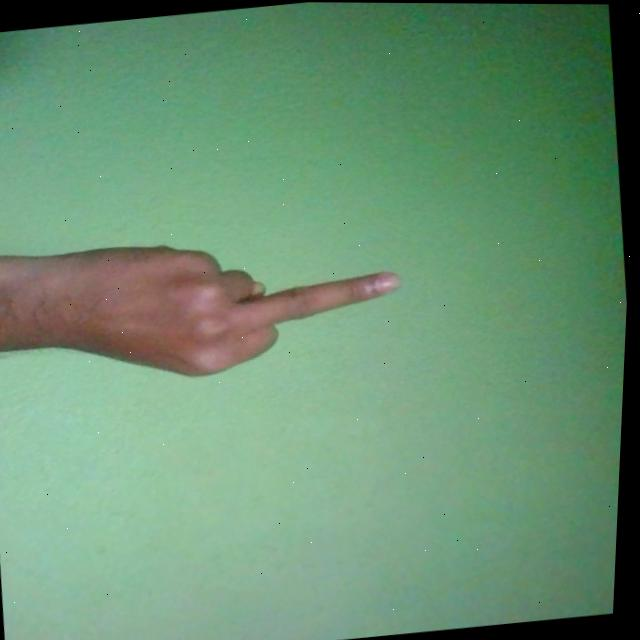Middle Finger: (0, 218, 417, 398)
